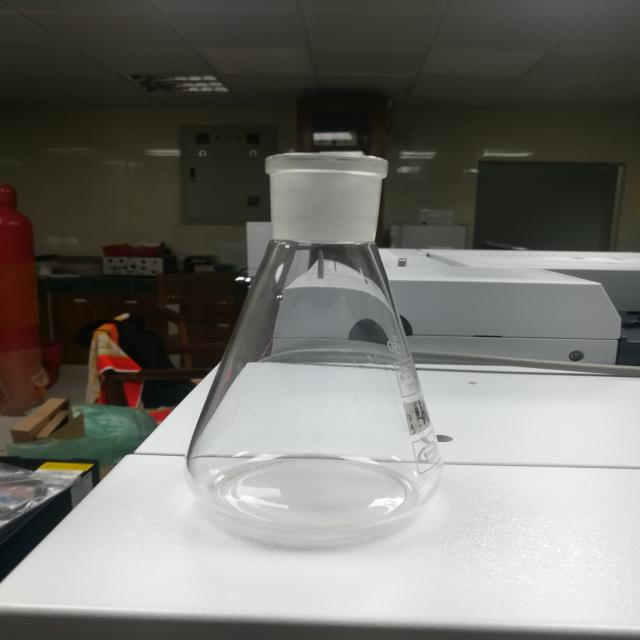Conical_Flask: (166, 107, 476, 570)
